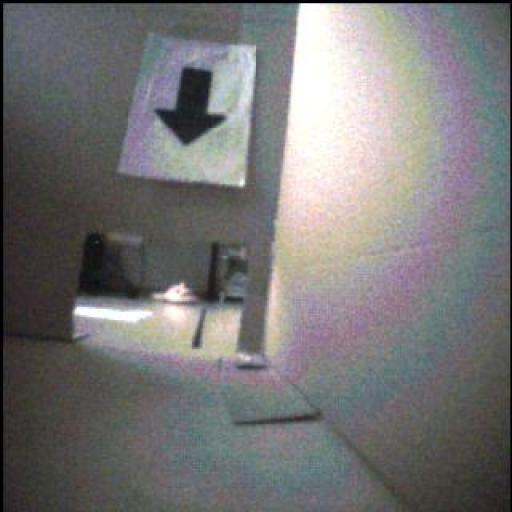arrow: (156, 68, 227, 145)
